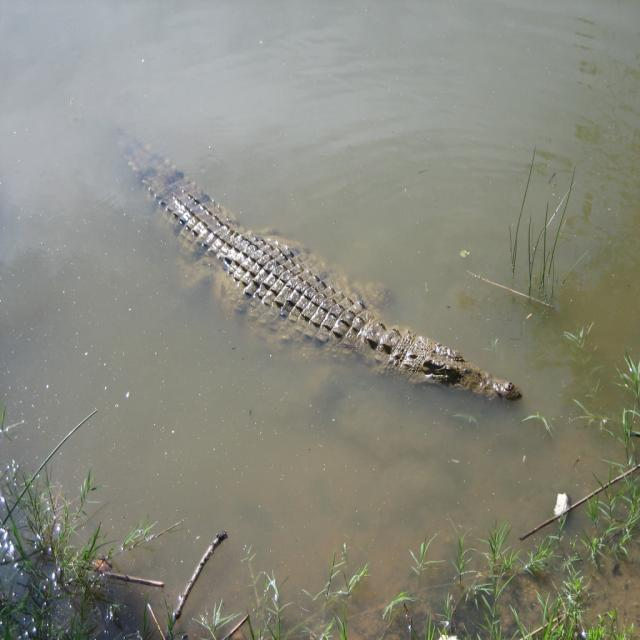crocodile: (132, 146, 523, 402)
